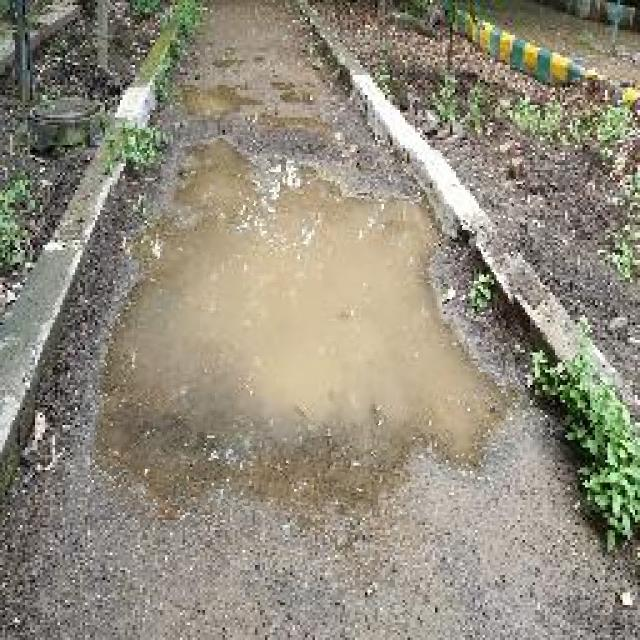puddle: (97, 136, 519, 522)
